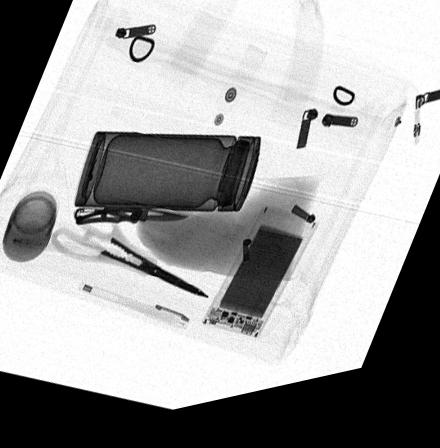Knife: (71, 207, 193, 229)
Powerbank: (198, 215, 321, 353)
Scissors: (50, 208, 215, 307)
